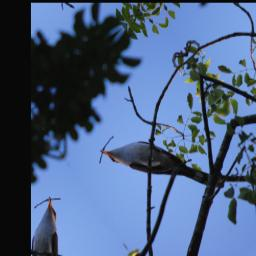Cuckoo: (97, 99, 211, 233)
